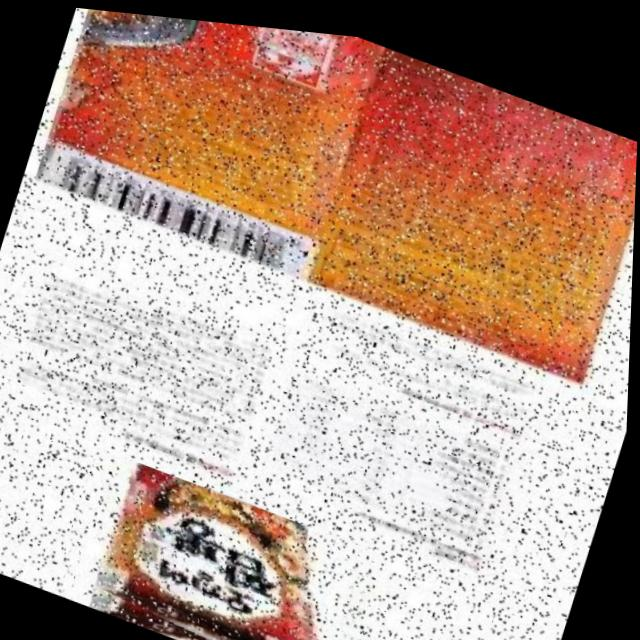Miscellaneous: (54, 440, 388, 640)
